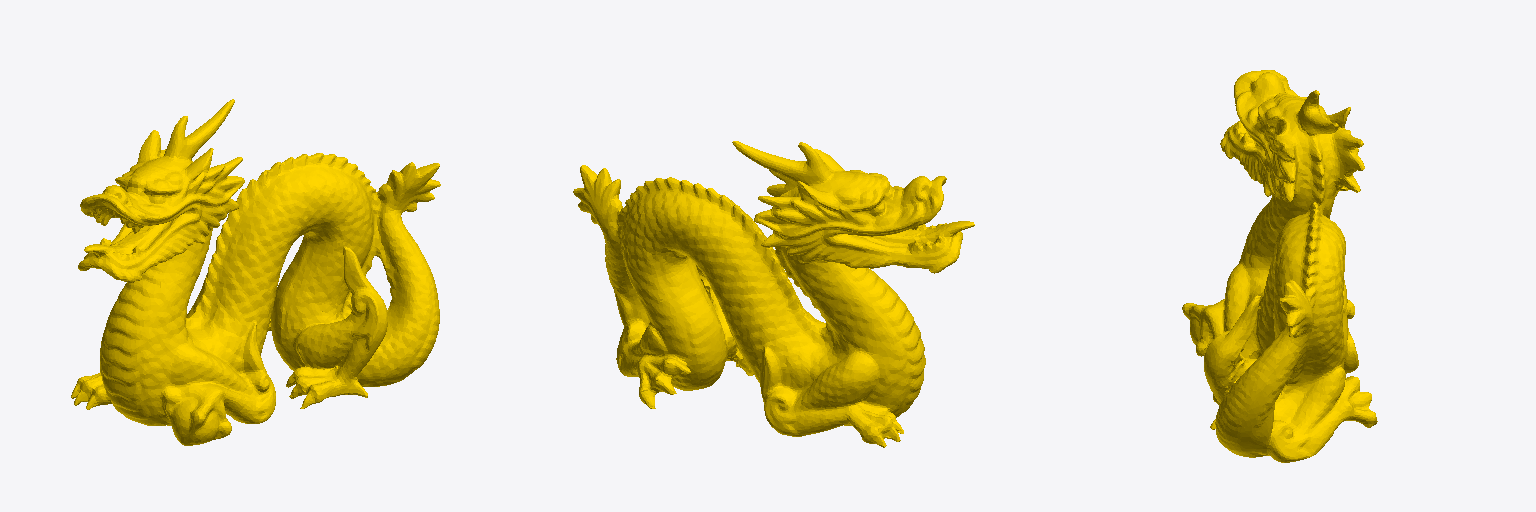
The model's file is dragon.obj.
3 renders of one model, left to right at view 1: azimuth 30°, elevation 25°; view 2: azimuth 150°, elevation 25°; view 3: azimuth 270°, elevation 25°, orthographic.
Size of the model in its own units: 1 by 0.7049 by 0.4473.